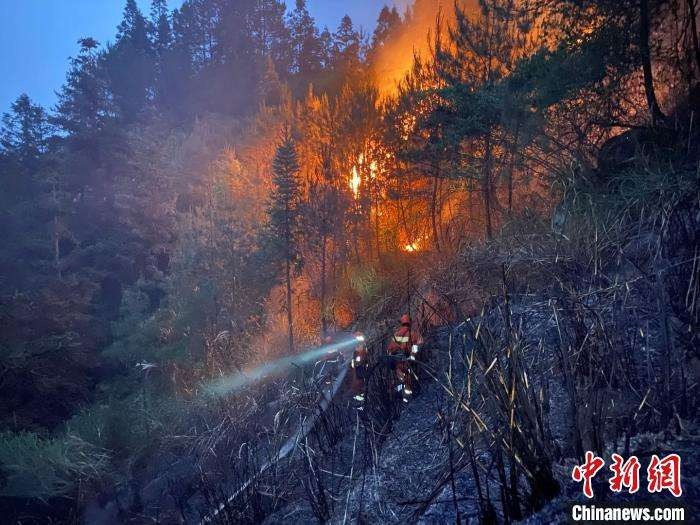fire: (345, 134, 387, 208), (398, 222, 432, 259)
